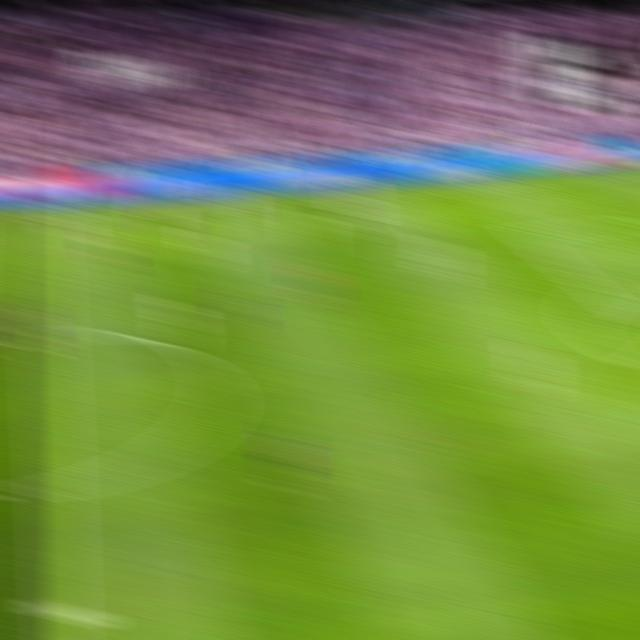bigarea_top_inner: (510, 222, 540, 244)
corner: (625, 159, 640, 174)
halfcircle_bottom: (36, 469, 72, 504)
halfcircle_top: (30, 320, 62, 348)
midline_top_intersection: (24, 204, 53, 222)
top_arc_area_intersection: (585, 282, 615, 303)
